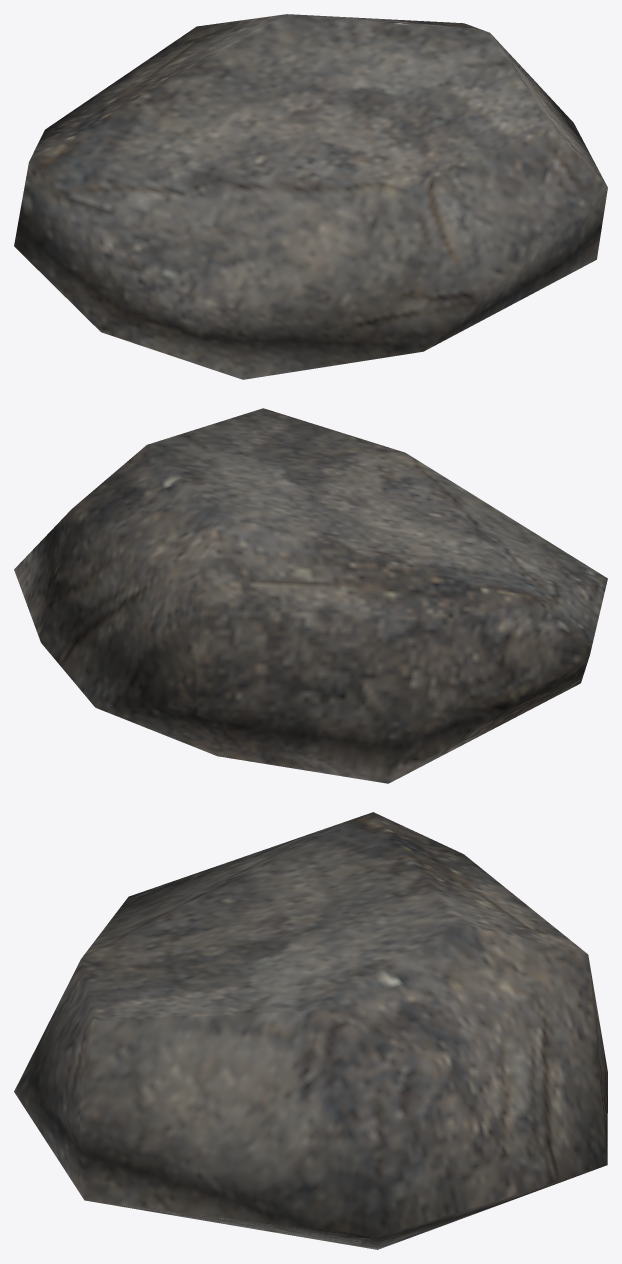
File: RockSm1_2_LOD1.fbx
3 views of the same model, one above another, from view 1: azimuth 30°, elevation 25°; view 2: azimuth 150°, elevation 25°; view 3: azimuth 270°, elevation 25° (orthographic). The views are drawn at different scales.
Parts seen in each view (by area): view 1: polySurface216; view 2: polySurface216; view 3: polySurface216.
Boxes of the visible parts, x1,y1,x2,y2 form: polySurface216: (14,14,607,379); polySurface216: (14,408,607,783); polySurface216: (14,812,607,1249).
Size of the model in its own units: 64.69 by 23.78 by 48.9.
